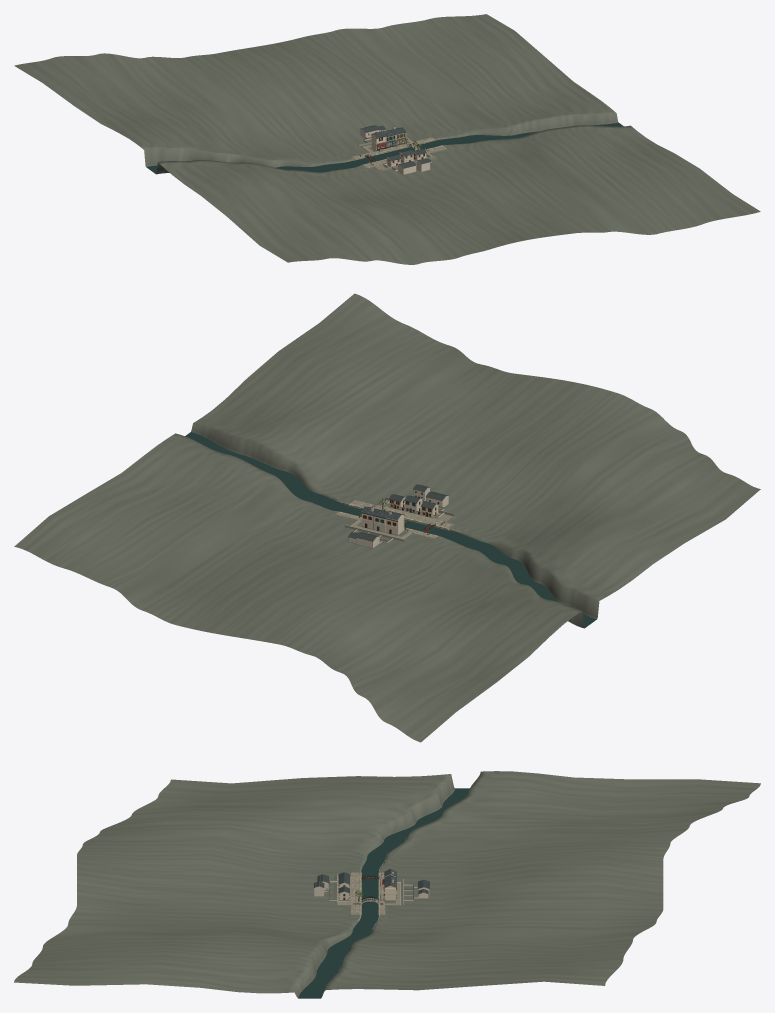
Rendered from space-01.glb.
The picture shows the model from 3 angles, top to bottom: view 1: azimuth 30°, elevation 25°; view 2: azimuth 150°, elevation 25°; view 3: azimuth 270°, elevation 25°; orthographic projection. The views are drawn at different scales.
Visible parts, largest first — view 1: ROAM01_Surface / EXT_B02_DampMineralGround, ROAM01_Water, ROAM01_Surface / roof, ROAM01_Surface / plaster_alt, ROAM01_Surface / paving, ROAM01_Surface / stone; view 2: ROAM01_Surface / EXT_B02_DampMineralGround, ROAM01_Water, ROAM01_Surface / paving, ROAM01_Surface / roof, ROAM01_Surface / plaster_alt, ROAM01_Surface / stone; view 3: ROAM01_Surface / EXT_B02_DampMineralGround, ROAM01_Water, ROAM01_Surface / paving, ROAM01_Surface / roof, ROAM01_Surface / plaster_alt.
Boxes of the visible parts, left/top/right/bottom form: ROAM01_Surface / EXT_B02_DampMineralGround: left=14, top=14, right=760, bottom=264; ROAM01_Water: left=146, top=122, right=623, bottom=173; ROAM01_Surface / roof: left=360, top=125, right=431, bottom=169; ROAM01_Surface / plaster_alt: left=360, top=129, right=431, bottom=174; ROAM01_Surface / paving: left=351, top=137, right=447, bottom=170; ROAM01_Surface / stone: left=342, top=130, right=446, bottom=174; ROAM01_Surface / EXT_B02_DampMineralGround: left=14, top=293, right=760, bottom=742; ROAM01_Water: left=185, top=432, right=596, bottom=627; ROAM01_Surface / paving: left=335, top=500, right=454, bottom=538; ROAM01_Surface / roof: left=348, top=485, right=447, bottom=541; ROAM01_Surface / plaster_alt: left=349, top=487, right=448, bottom=547; ROAM01_Surface / stone: left=335, top=489, right=462, bottom=548; ROAM01_Surface / EXT_B02_DampMineralGround: left=14, top=771, right=760, bottom=998; ROAM01_Water: left=298, top=788, right=469, bottom=998; ROAM01_Surface / paving: left=337, top=872, right=400, bottom=914; ROAM01_Surface / roof: left=314, top=869, right=429, bottom=900; ROAM01_Surface / plaster_alt: left=314, top=878, right=429, bottom=902.
Size of the model in its own units: 245 by 11.32 by 368.
